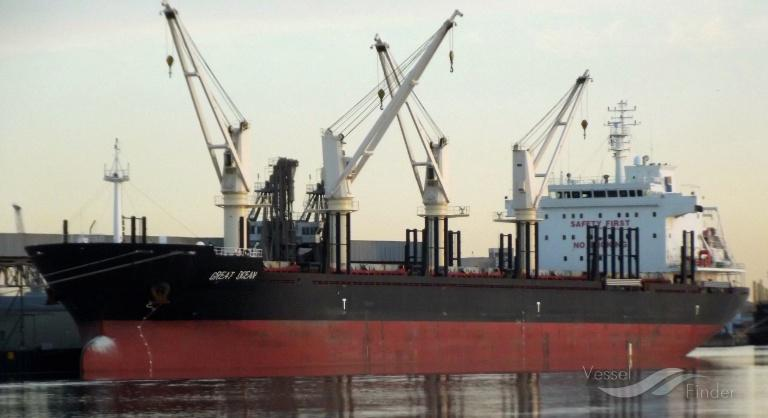OCR: (206, 268, 260, 289)
